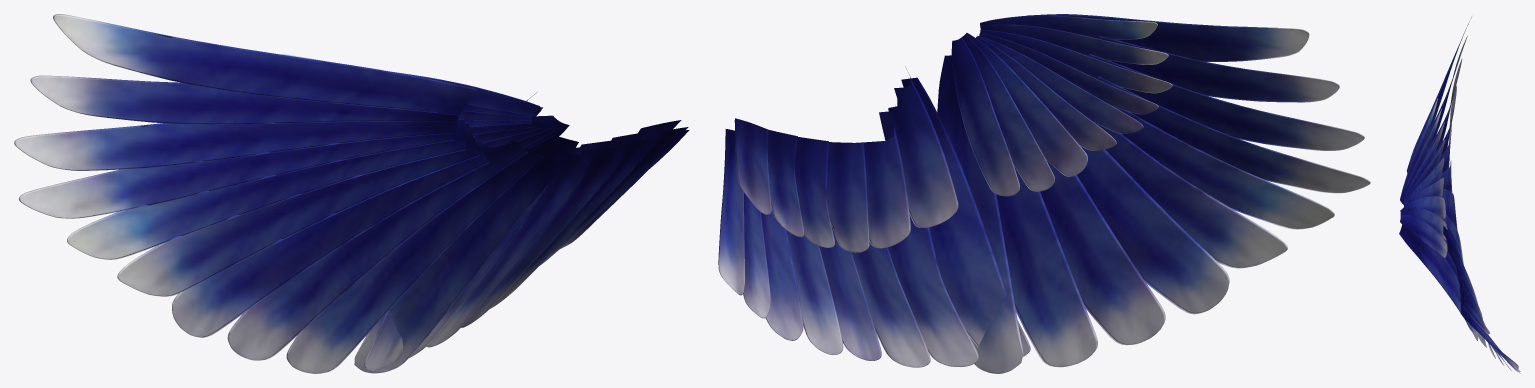
The model's file is AlaIzq.obj.
The picture shows the model from 3 angles, left to right: view 1: azimuth 30°, elevation 25°; view 2: azimuth 150°, elevation 25°; view 3: azimuth 270°, elevation 25°; orthographic projection. The views are drawn at different scales.
Visible parts, largest first — view 1: pajaro_azul.036; view 2: pajaro_azul.036; view 3: pajaro_azul.036.
Part boxes in pixels (x1,y1,x2,y2): pajaro_azul.036: [14, 14, 689, 373]; pajaro_azul.036: [718, 14, 1370, 373]; pajaro_azul.036: [1399, 17, 1520, 373].
Size of the model in its own units: 28.65 by 17.85 by 8.29.
1 material, 1 textured.
